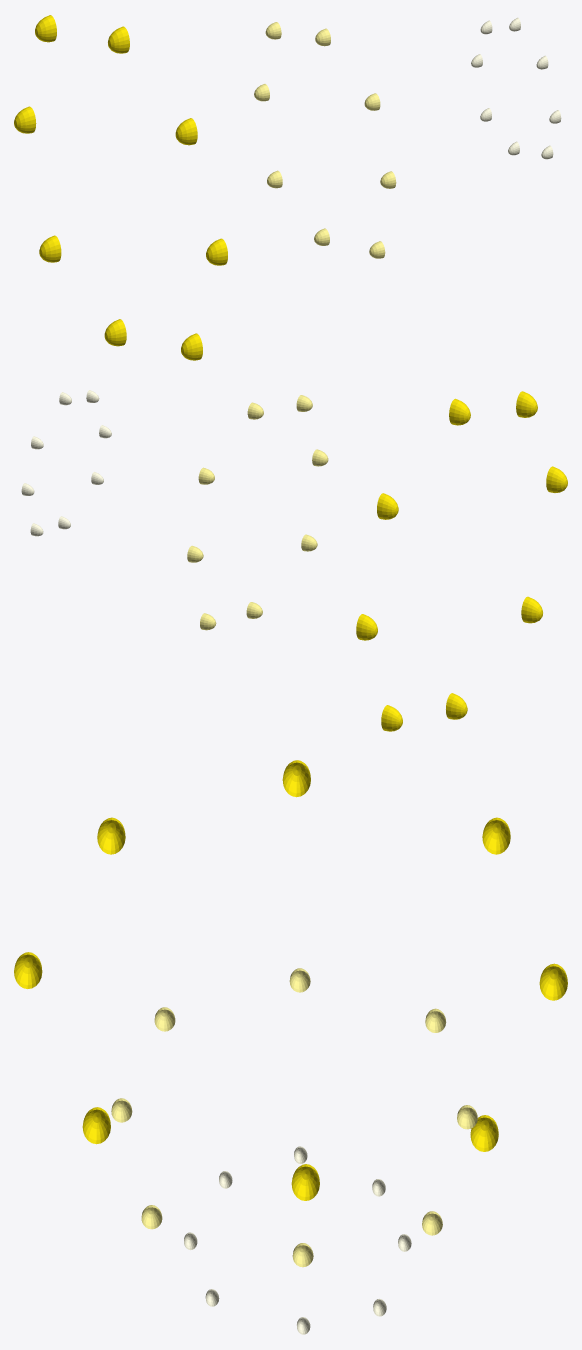
Rendered from raito.FBX.
3 views of the same model, one above another, from view 1: azimuth 30°, elevation 25°; view 2: azimuth 150°, elevation 25°; view 3: azimuth 270°, elevation 25° (orthographic). The views are drawn at different scales.
Visible parts, largest first — view 1: オブジェクト016; view 2: オブジェクト016; view 3: オブジェクト016.
Part boxes in pixels (x1,y1,x2,y2): オブジェクト016: (14, 15, 561, 360); オブジェクト016: (21, 390, 567, 731); オブジェクト016: (14, 760, 567, 1334).
Bounding box in the file's own units: 161 × 117 × 134.
1 material, 1 textured.
